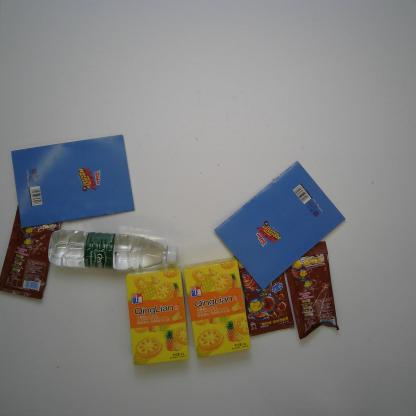Candy: (0, 206, 65, 302), (283, 238, 340, 340), (234, 254, 296, 339)
Dessert: (182, 257, 253, 360), (125, 264, 192, 366)
Drink: (47, 227, 180, 274)
Stationery: (212, 158, 349, 294), (10, 133, 137, 232)
